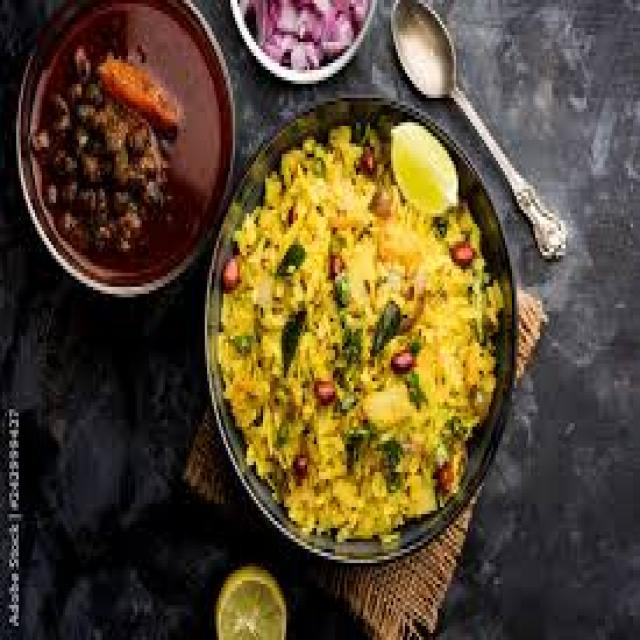POHA: (221, 122, 502, 538)
